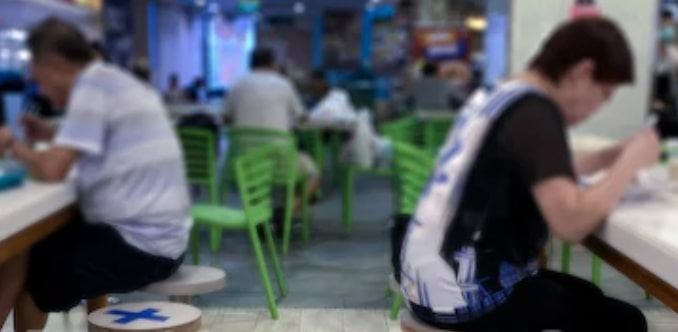Caution: (15, 16, 657, 328)
Good: (227, 18, 659, 330), (1, 15, 316, 318)
